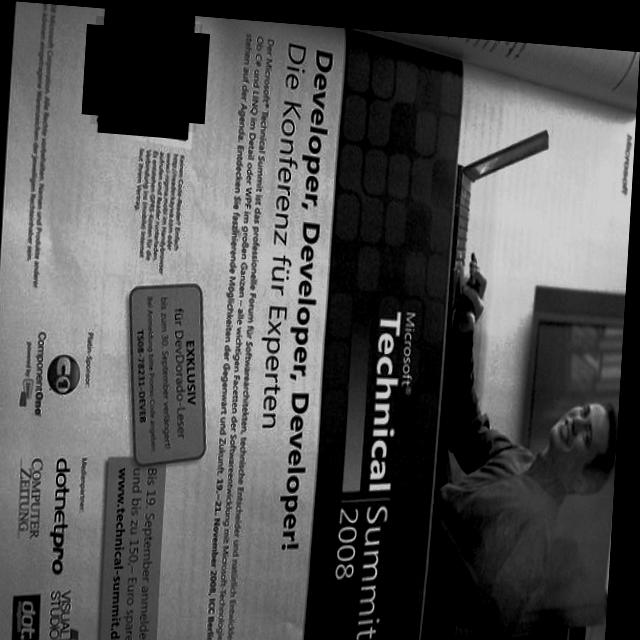qr_code: (91, 14, 202, 129)
